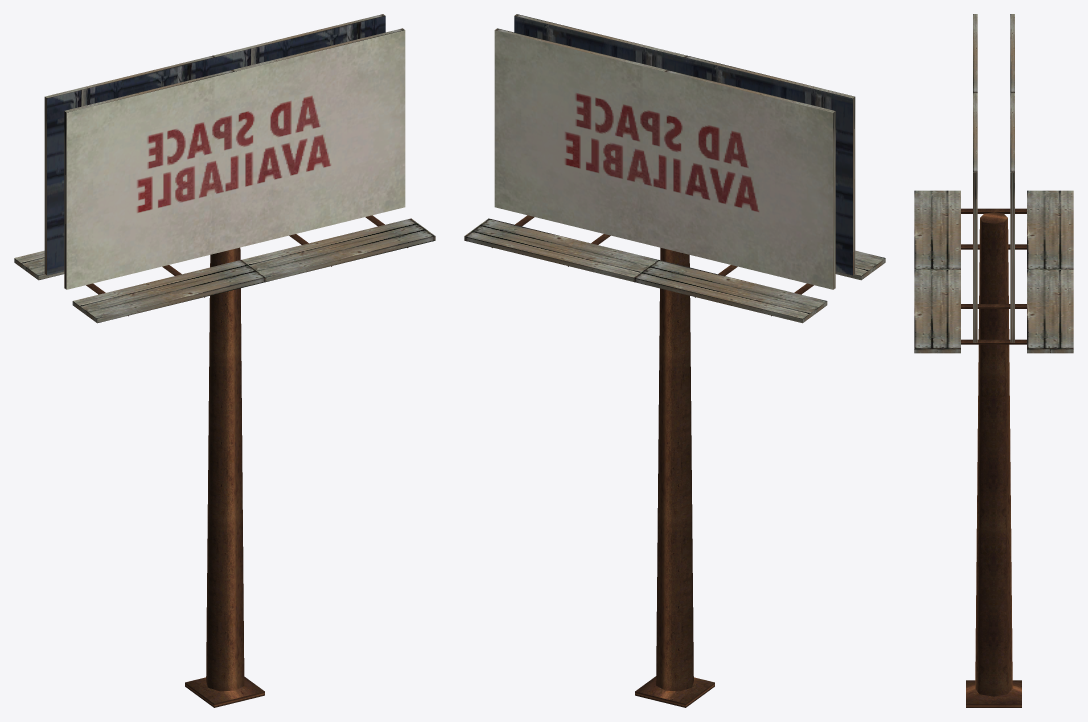
Rendered from billboard_adspace.fbx.
3 renders of one model, left to right at view 1: azimuth 30°, elevation 25°; view 2: azimuth 150°, elevation 25°; view 3: azimuth 270°, elevation 25°, orthographic. The views are drawn at different scales.
Visible parts, largest first — view 1: mesh_1, mesh_0; view 2: mesh_2, mesh_0; view 3: mesh_0.
Part boxes in pixels (bbox=[...]): mesh_1: bbox=[66, 30, 405, 289]; mesh_0: bbox=[14, 14, 435, 707]; mesh_2: bbox=[494, 30, 833, 289]; mesh_0: bbox=[464, 14, 885, 707]; mesh_0: bbox=[914, 14, 1073, 707].
Bounding box in the file's own units: 542 × 961 × 230.
2 materials, 2 textured.
